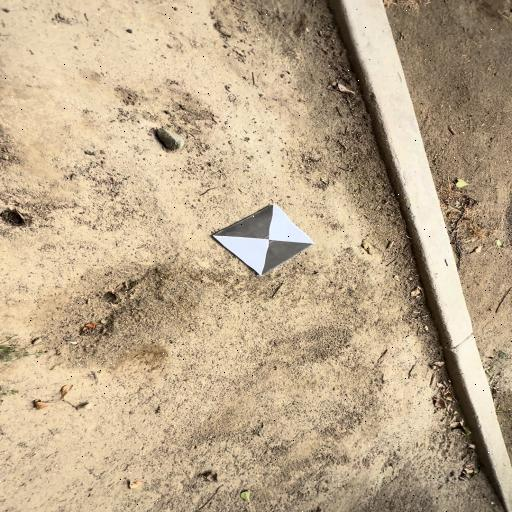target: (215, 204, 314, 275)
